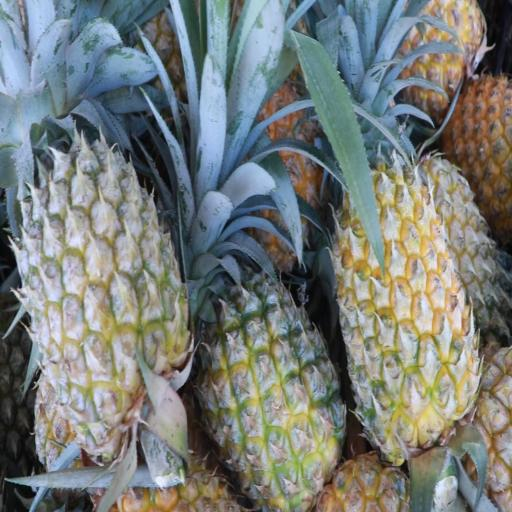------------------------------: (26, 154, 180, 445)
Pineapple - v8 v1: (339, 162, 476, 450), (203, 276, 338, 504), (394, 0, 482, 105), (449, 74, 512, 203)
